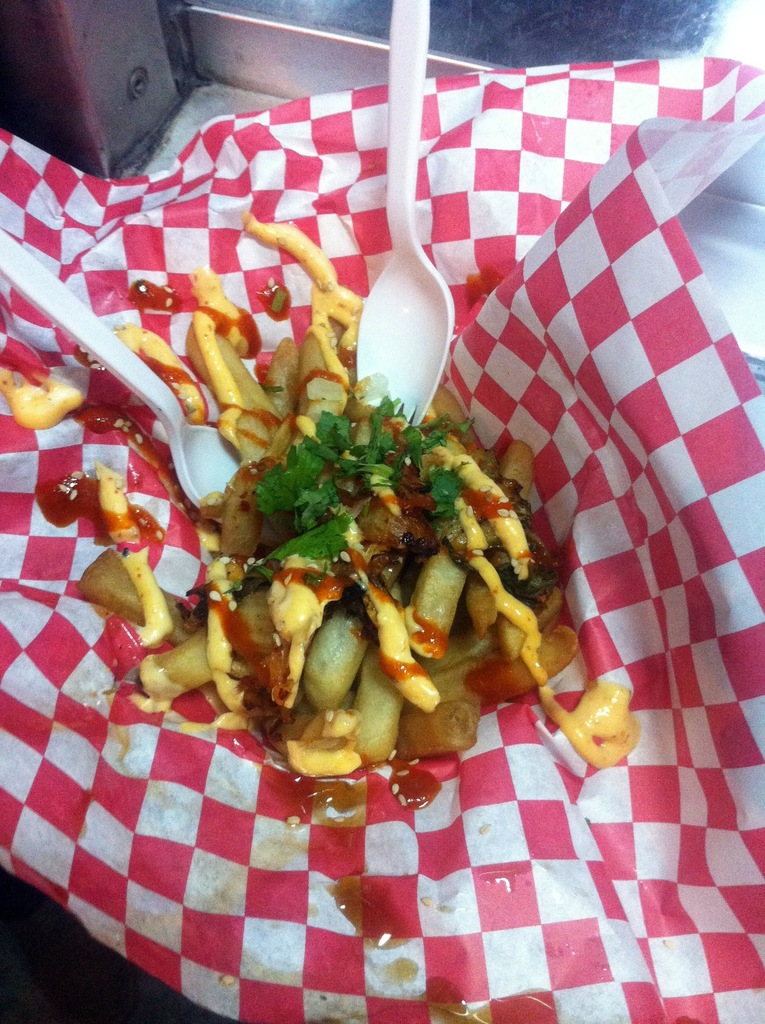french_fries: (93, 209, 526, 789)
